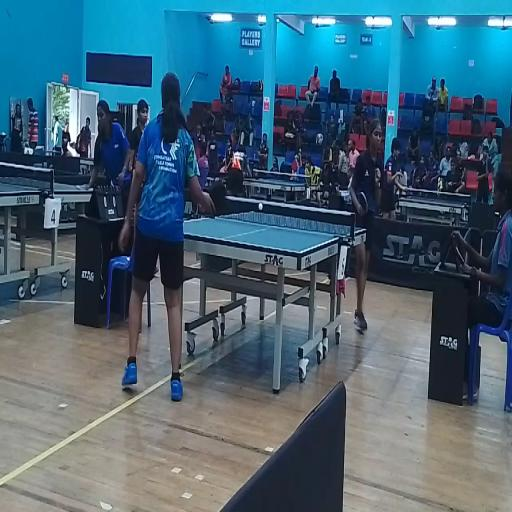ball: (258, 203, 264, 211)
